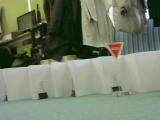stop: (103, 42, 125, 61)
